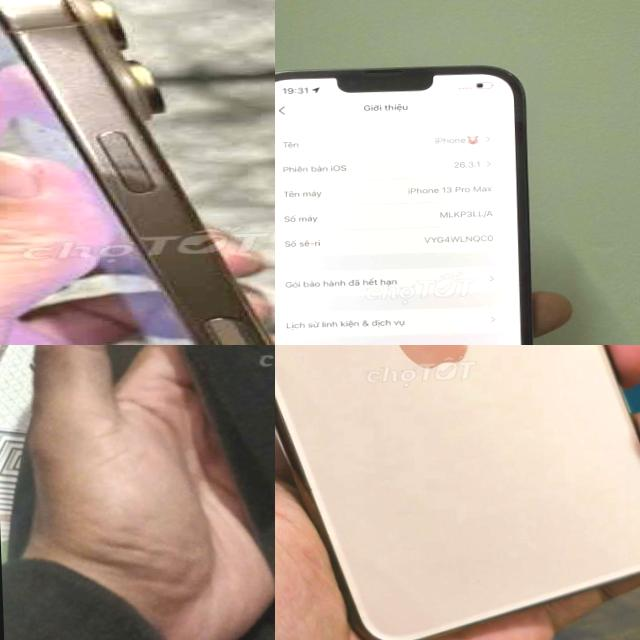gen_11: (275, 345, 640, 640)
gen_12_13: (275, 46, 572, 345), (110, 345, 275, 618)
gen_16: (0, 0, 275, 345)
